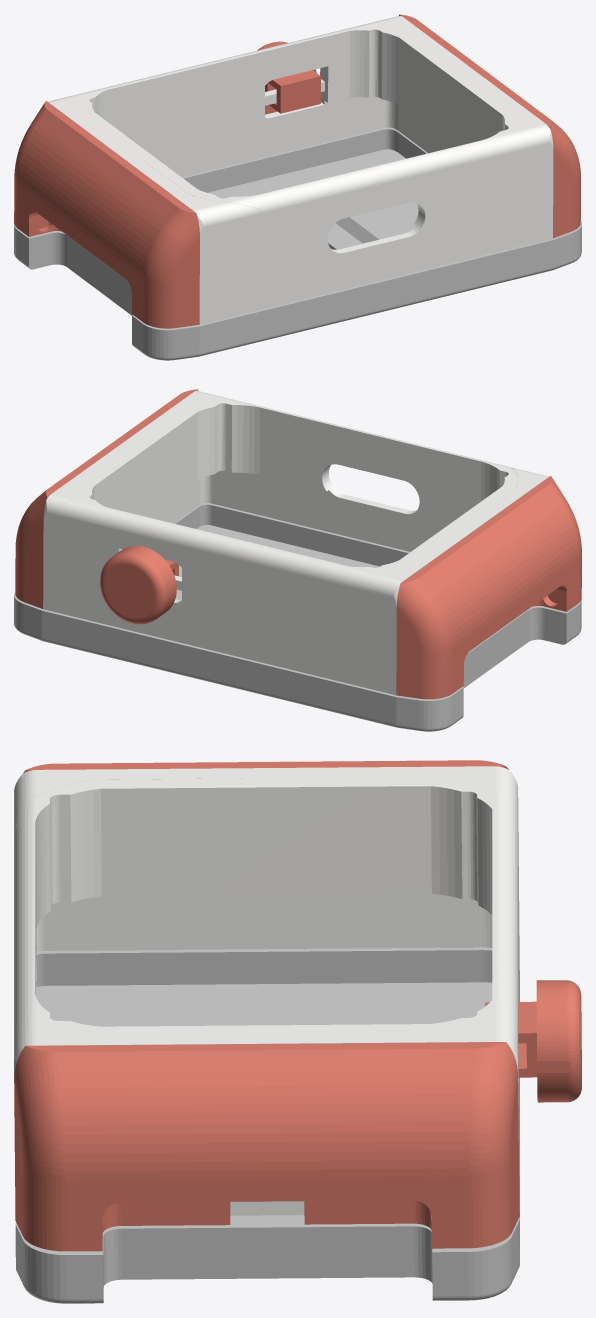
File: Reloj.glb
3 renders of one model, top to bottom at view 1: azimuth 30°, elevation 25°; view 2: azimuth 150°, elevation 25°; view 3: azimuth 270°, elevation 25°, orthographic. The views are drawn at different scales.
Parts seen in each view (by area): view 1: Sin título; view 2: Sin título; view 3: Sin título.
Boxes of the visible parts, x1=… form: Sin título: x1=14, y1=14, x2=581, y2=360; Sin título: x1=14, y1=389, x2=581, y2=731; Sin título: x1=14, y1=760, x2=581, y2=1303.
Bounding box in the file's own units: 5.42 × 1.73 × 3.83.
